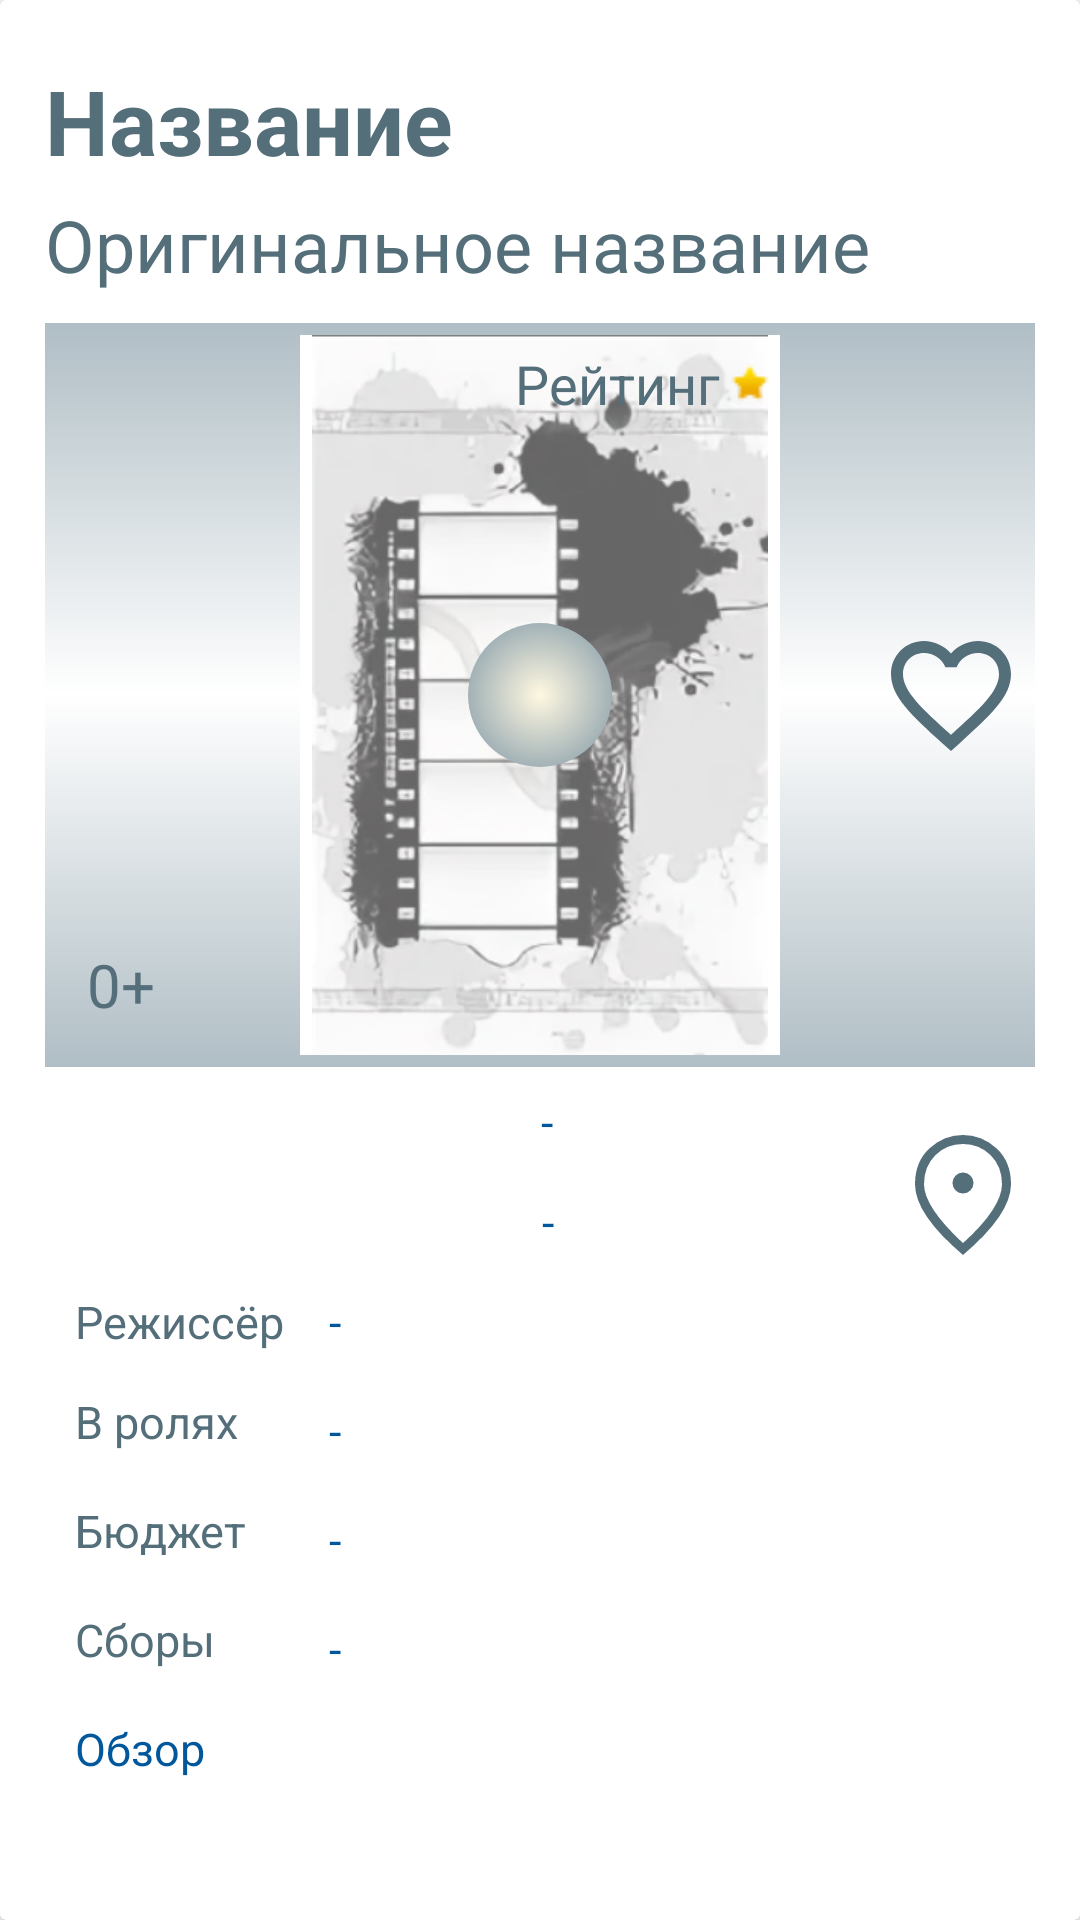

Screen size 1080 x 1920. Icon name, then its center in pixels as (x=x, y=y):
favorite border: (x=951, y=696)
location: (x=963, y=1195)
